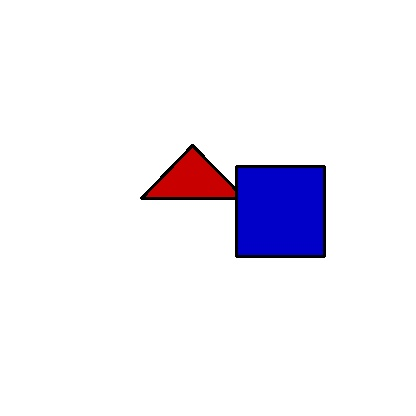rectangle: (236, 166, 324, 256)
triangle: (141, 145, 244, 198)
